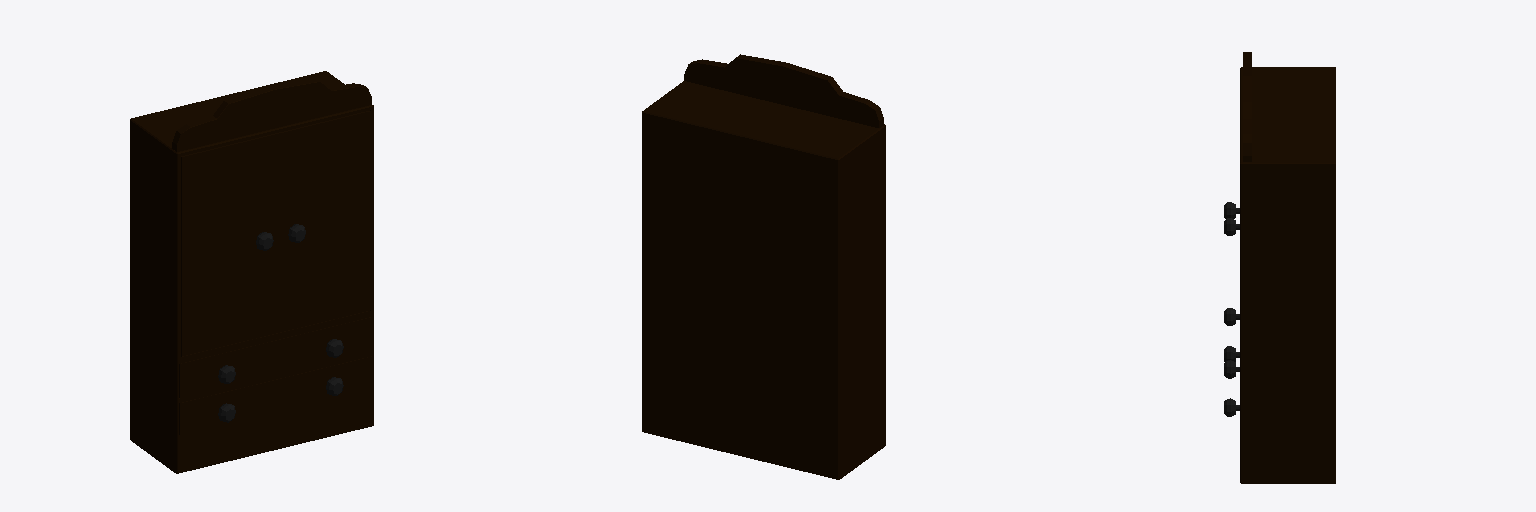
Rendered from SmallWardrobe1.obj.
The picture shows the model from 3 angles: view 1: azimuth 30°, elevation 25°; view 2: azimuth 150°, elevation 25°; view 3: azimuth 270°, elevation 25°; orthographic projection.
Visible parts, largest first — view 1: SmallWardrobe1_Cube.029, DoorRIght1_SmallWardrobe1_Cube.001, DoorLeft1_SmallWardrobe1_Cube.002, Drawer1_SmallWardrobe1_Cube.003, Drawer2_SmallWardrobe1_Cube.004; view 2: SmallWardrobe1_Cube.029; view 3: SmallWardrobe1_Cube.029.
Part boxes in pixels (x1,y1,x2,y2): SmallWardrobe1_Cube.029: (130, 71, 373, 473); DoorRIght1_SmallWardrobe1_Cube.001: (181, 134, 275, 356); DoorLeft1_SmallWardrobe1_Cube.002: (275, 111, 370, 332); Drawer1_SmallWardrobe1_Cube.003: (179, 317, 371, 398); Drawer2_SmallWardrobe1_Cube.004: (179, 356, 371, 434); SmallWardrobe1_Cube.029: (642, 54, 885, 479); SmallWardrobe1_Cube.029: (1240, 52, 1335, 483).
Size of the model in its own units: 1.26 by 2.19 by 0.6188.